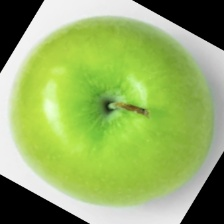apple: (1, 41, 194, 177)
